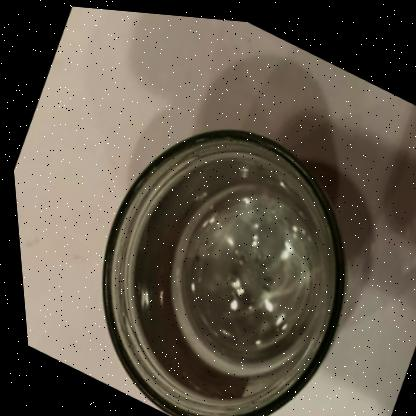Glass: (96, 124, 340, 416)
